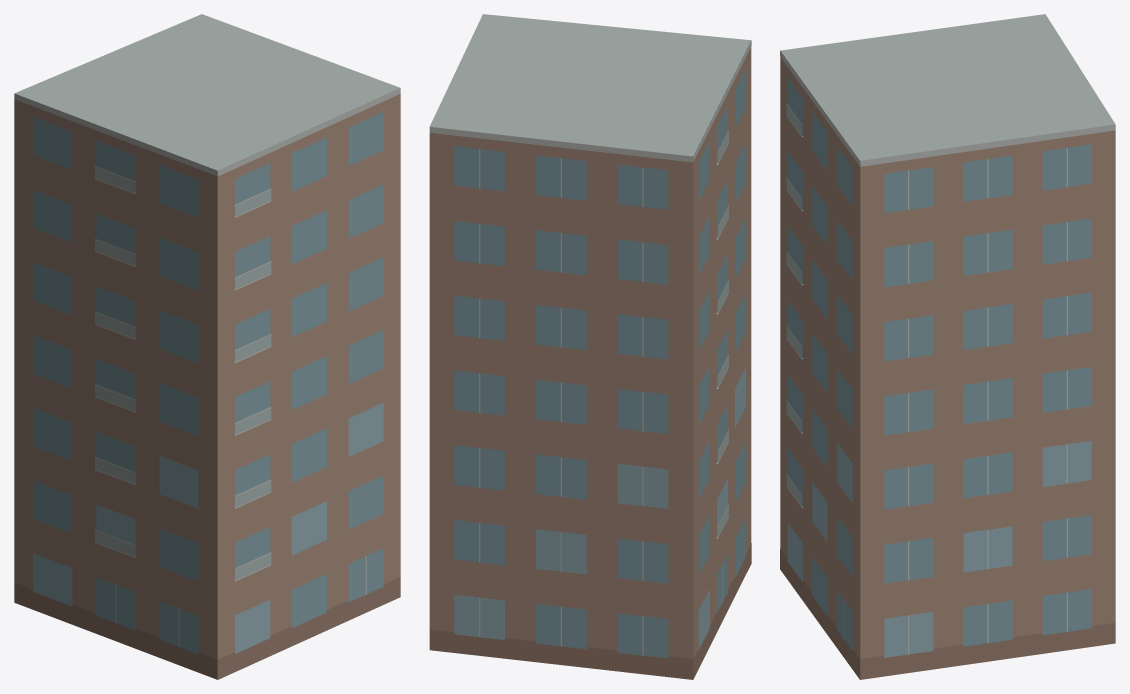
Rendered from survey-upis-32568640.glb.
3 renders of one model, left to right at view 1: azimuth 30°, elevation 25°; view 2: azimuth 150°, elevation 25°; view 3: azimuth 270°, elevation 25°, orthographic. The views are drawn at different scales.
Parts seen in each view (by area): view 1: survey-upis-32568640.tmp; view 2: survey-upis-32568640.tmp; view 3: survey-upis-32568640.tmp.
Part boxes in pixels (x1,y1,x2,y2): survey-upis-32568640.tmp: (14,14,400,679); survey-upis-32568640.tmp: (429,14,751,679); survey-upis-32568640.tmp: (780,14,1115,679).
Bounding box in the file's own units: 12.98 × 21.35 × 12.52.
